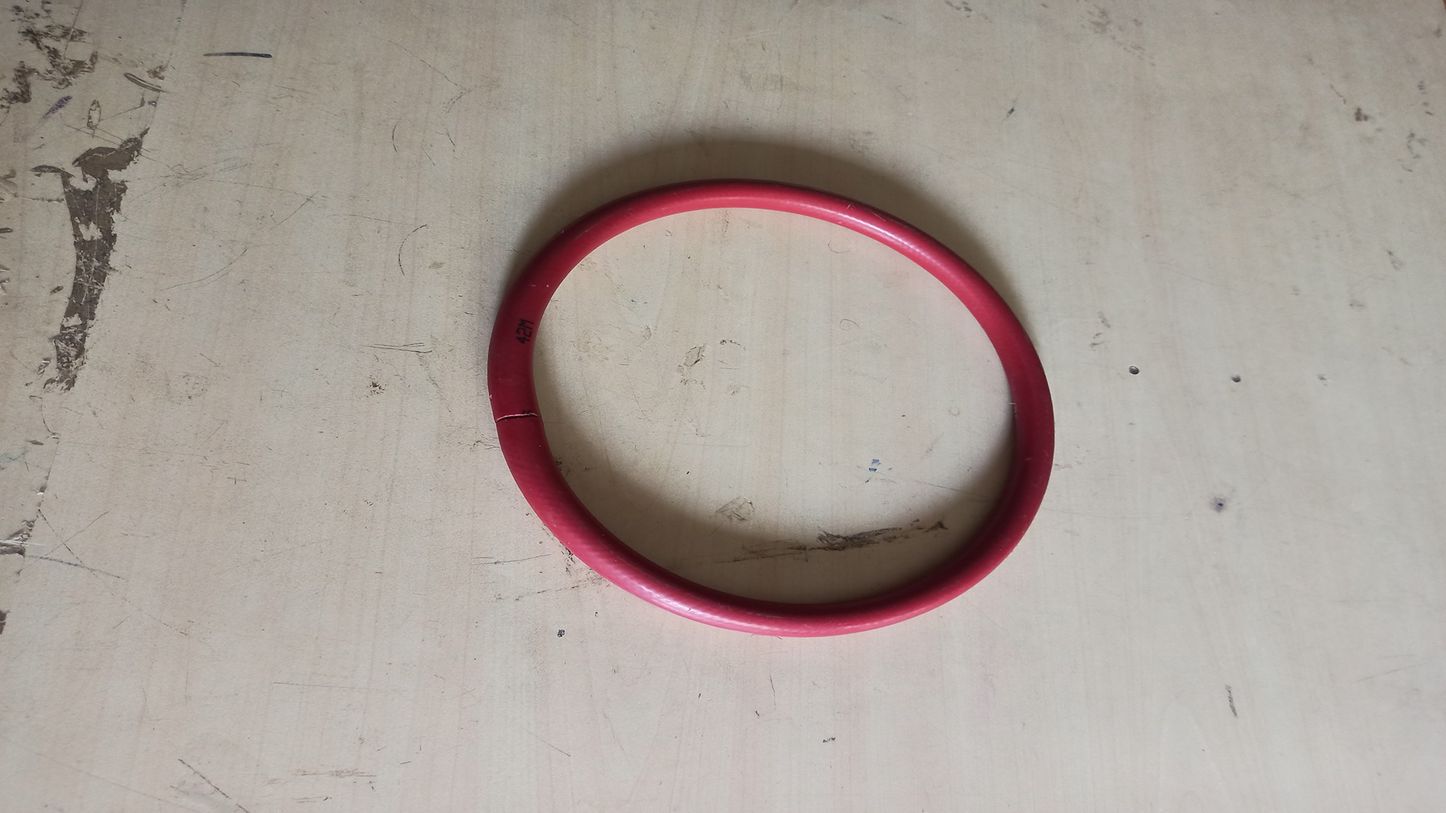Red ring: (486, 180, 1059, 635)
